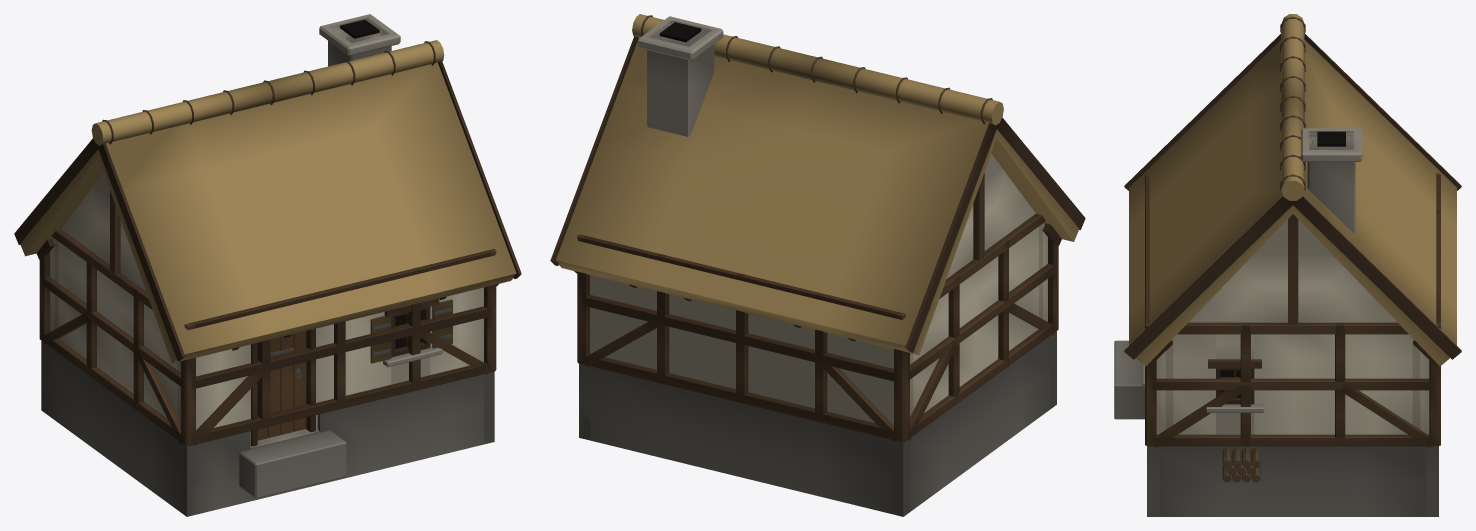
File: hut.glb
3 views of the same model, side by side, from view 1: azimuth 30°, elevation 25°; view 2: azimuth 150°, elevation 25°; view 3: azimuth 270°, elevation 25° (orthographic). The views are drawn at different scales.
Parts seen in each view (by area): view 1: ext, door0; view 2: ext; view 3: ext, int.
Part boxes in pixels (box(x1,y1,x2,y2)): ext: box(14, 14, 521, 516); door0: box(257, 331, 306, 440); ext: box(550, 14, 1085, 516); ext: box(1114, 14, 1461, 516); int: box(1165, 338, 1420, 429).
Bounding box in the file's own units: 6.3 × 6.14 × 5.4.
